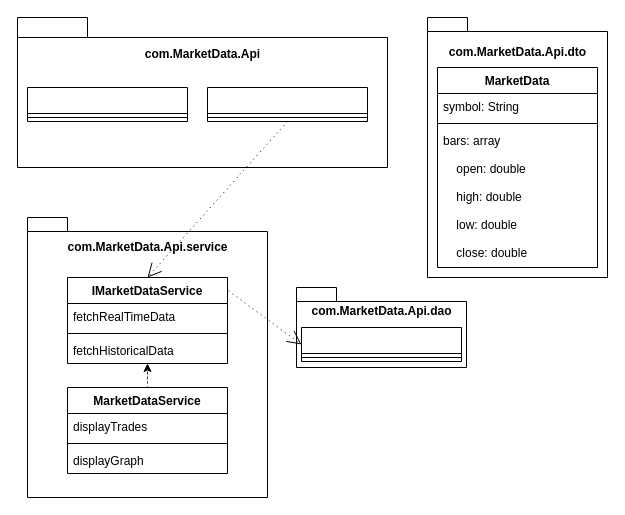
Image size: 625x515. Some labels were removed from this diagram. Here are the shapes that lost their labels. From the top down, the centre of each, then its label:
At pixel 107 104: "ApiApplication".
At pixel 287 104: "MarketDataController".
At pixel 381 344: "IMarketDataDAO".
